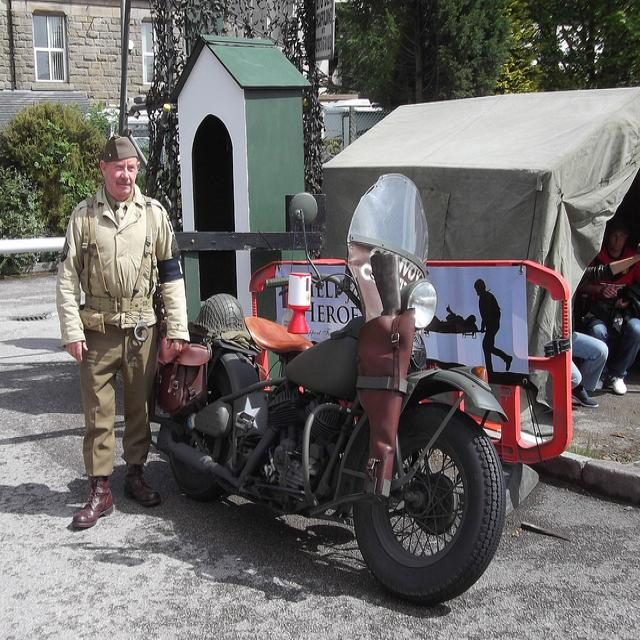motor: (148, 171, 510, 609)
